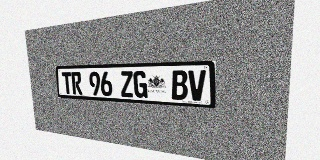6: (100, 71, 113, 96)
9: (89, 72, 101, 96)
B: (171, 70, 188, 100)
G: (133, 71, 148, 98)
R: (71, 72, 82, 95)
T: (62, 72, 73, 94)
V: (188, 70, 206, 101)
Z: (120, 71, 134, 97)
